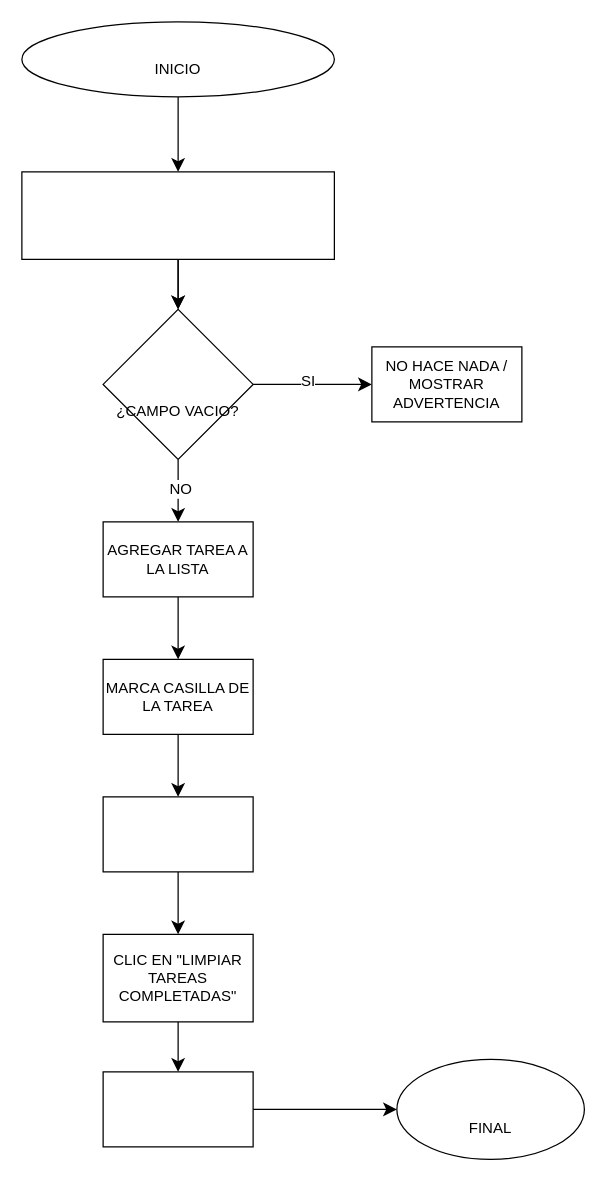
This 606x1181 diagram has some shape labels left out. Each missing label, with the centre of its shape:
"APLICA ESTILO TACHADO" goes at [177,834].
"ELIMINA TAREAS MARCADAS DE LA LISTA" goes at [177,1109].
"ESCRIBIR TEXTO DE LA TAREA" goes at [177,215].
